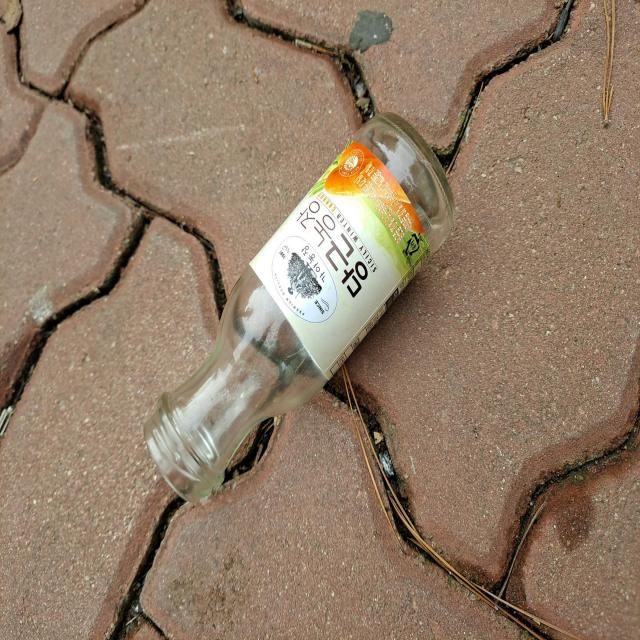glass: (145, 113, 455, 501)
